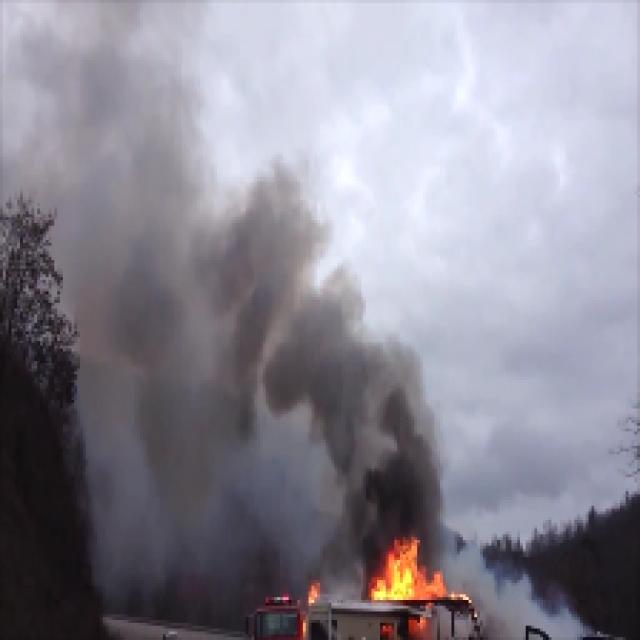fire: (371, 532, 439, 599)
smoke: (344, 356, 426, 521)
